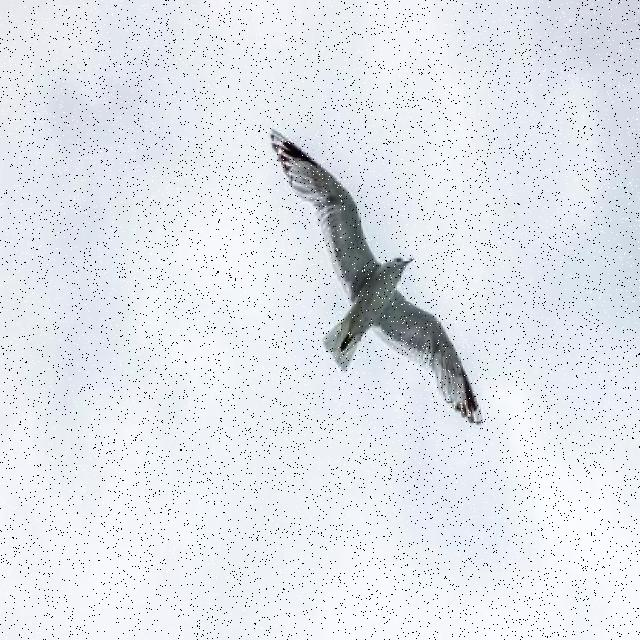bird: (271, 129, 484, 425)
